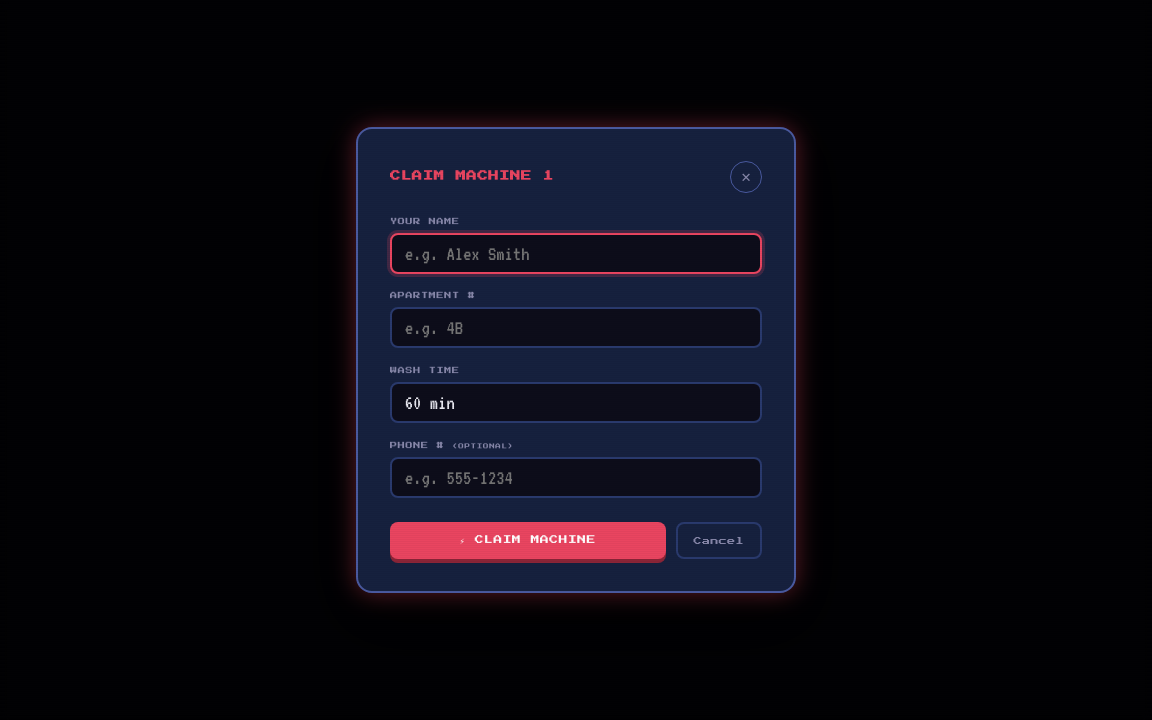
Test: ClaimDialog - validation › shows error when name is empty
The width and height of the screenshot is (1152, 720).
Click the button with test id "btn-claim-submit".
click(528, 541)  # box x1=390 y1=522 x2=666 y2=559
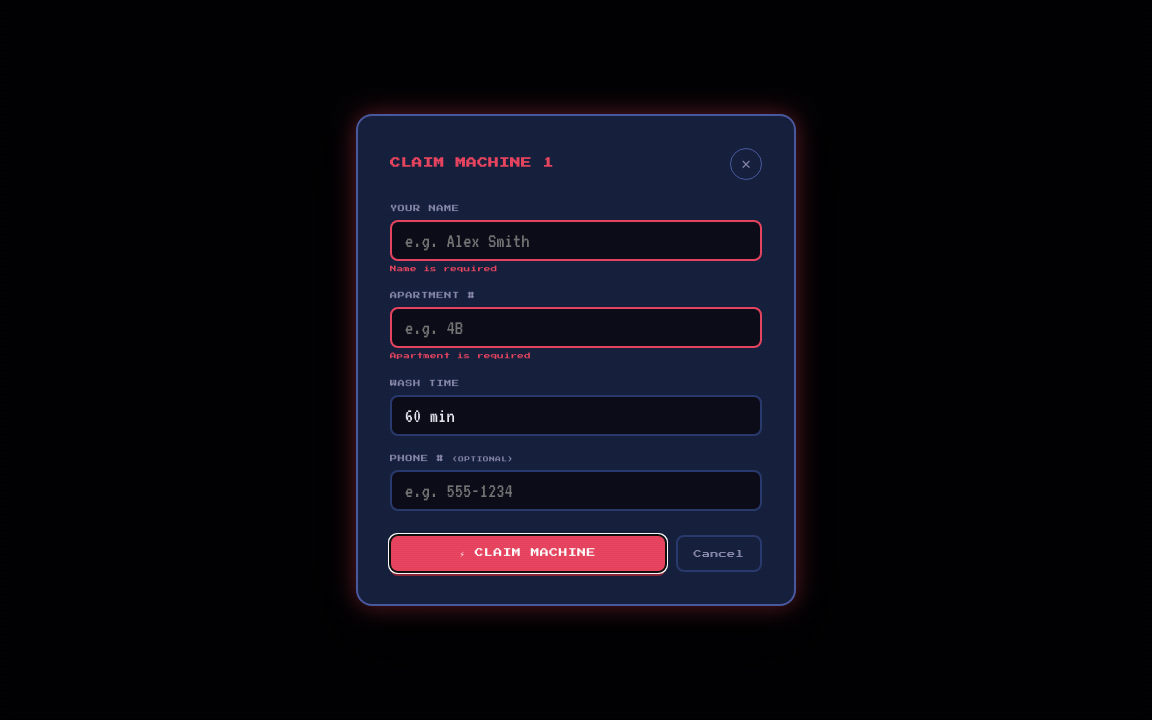
expect the text "Name is required" is shown: met, box x1=390 y1=266 x2=497 y2=272
